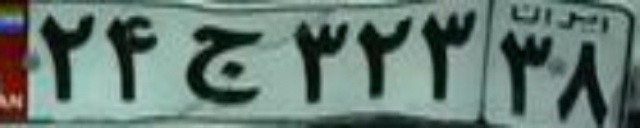2: (37, 13, 96, 101), (359, 15, 413, 100)
3: (420, 11, 484, 100), (494, 30, 551, 114), (294, 21, 348, 103)
4: (102, 15, 161, 100)
8: (557, 39, 608, 124)
jim: (184, 26, 271, 104)
